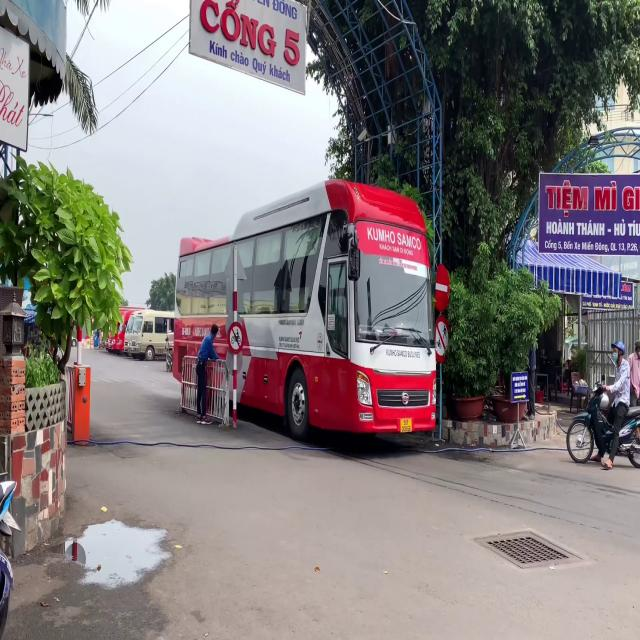bien_vang: (400, 417, 412, 432)
